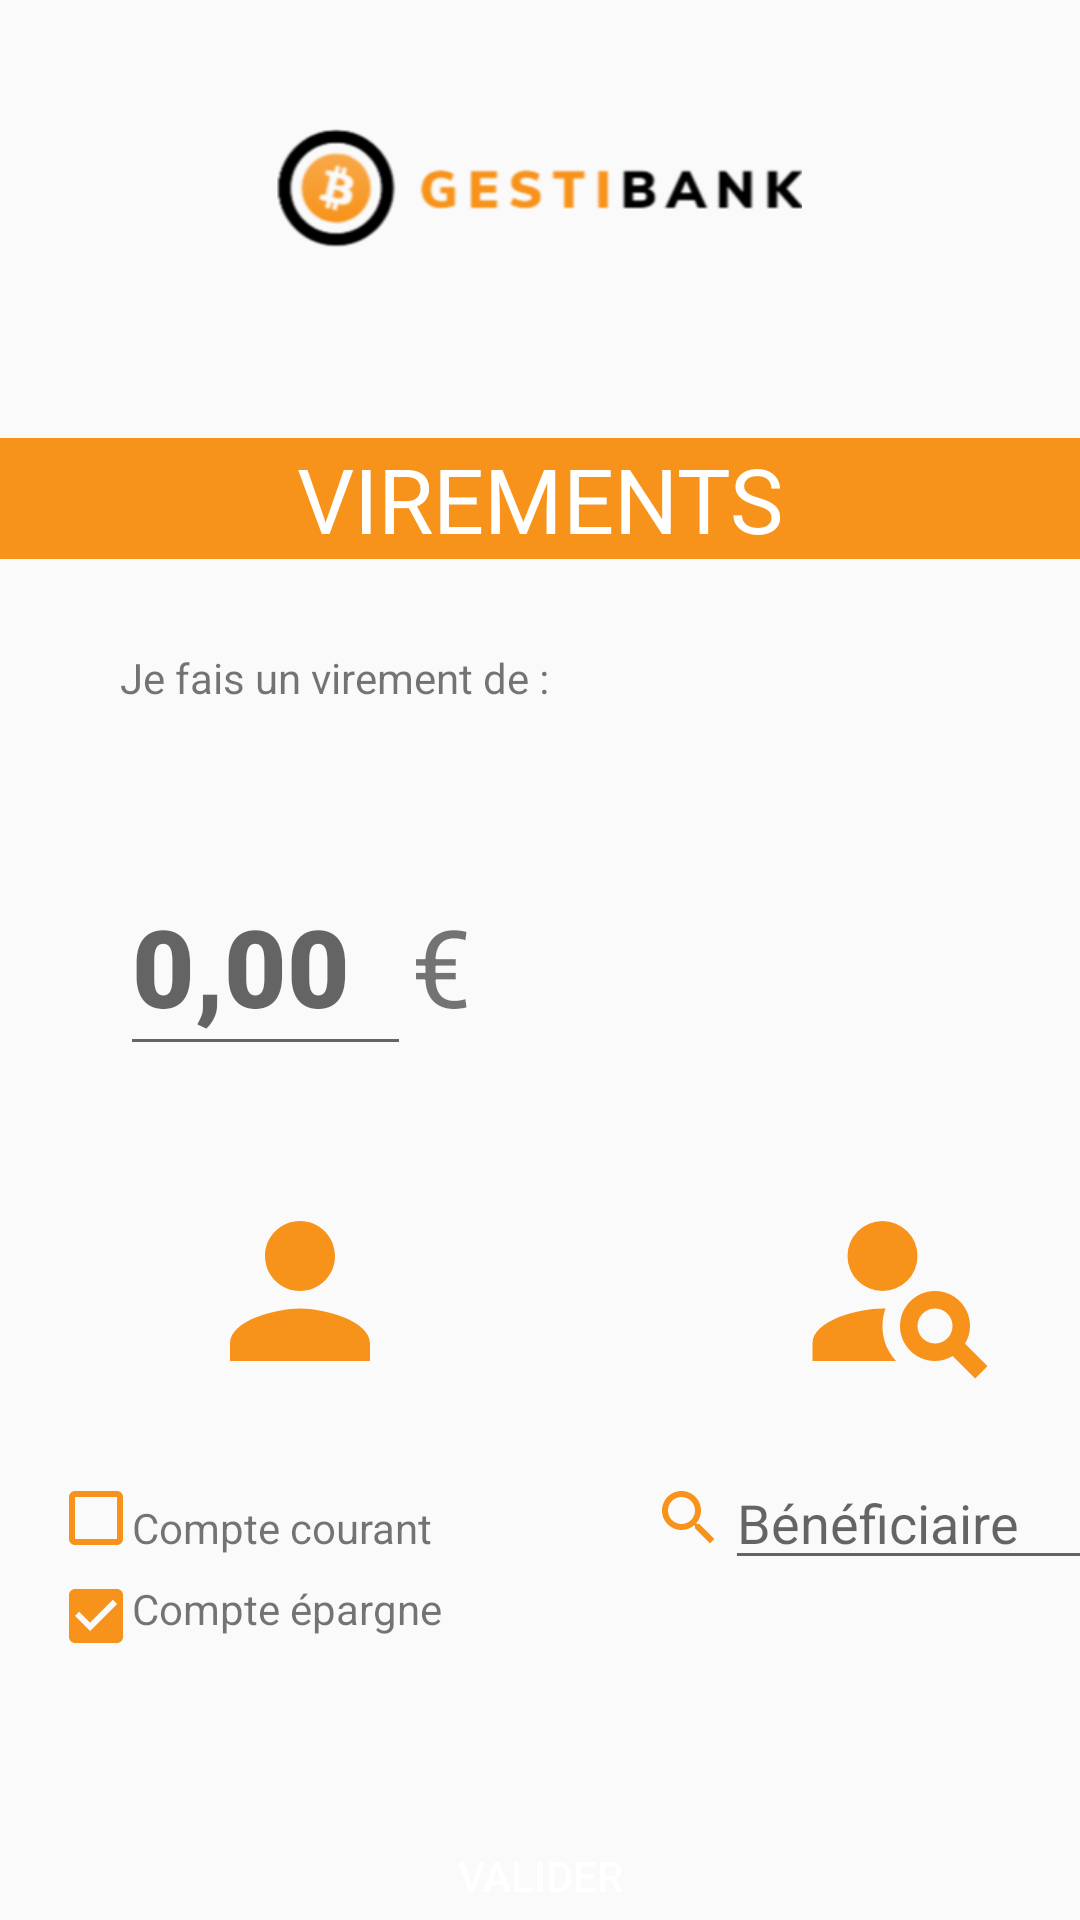

Where to tap for icons on this 1080*1920 app screen, as (x,y):
check box: (96,1616)
check box blank: (96,1518)
person: (300,1291)
search: (688,1517)
